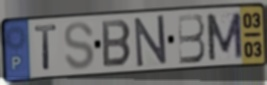B: (176, 12, 208, 66), (100, 19, 133, 70)
M: (204, 10, 245, 62)
N: (133, 13, 169, 70)
S: (62, 20, 96, 72)
T: (33, 23, 59, 73)
